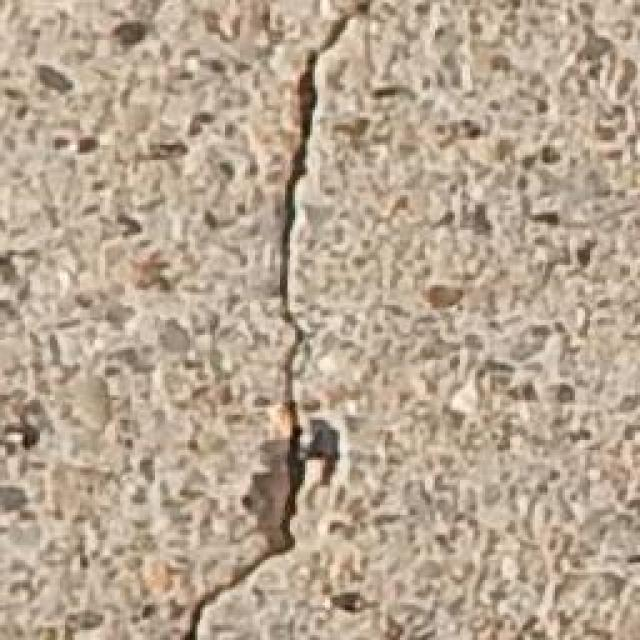concrete-crack: (182, 0, 372, 640), (296, 423, 345, 512)
